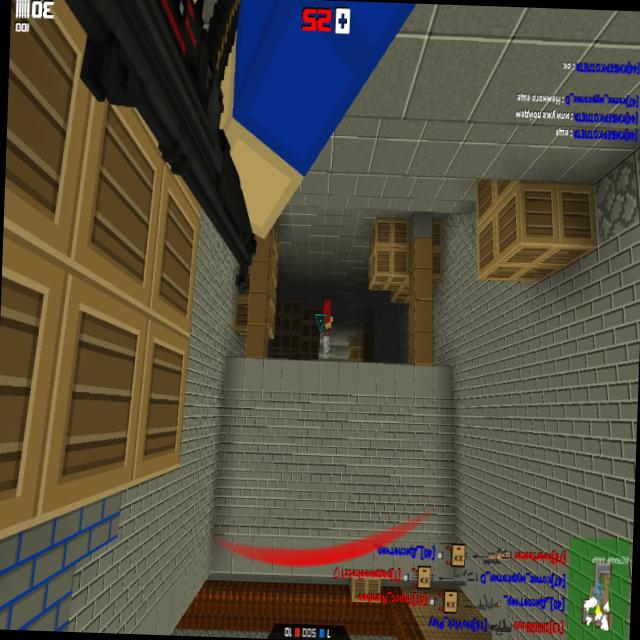enemy: (322, 298, 333, 331), (322, 334, 331, 356)
